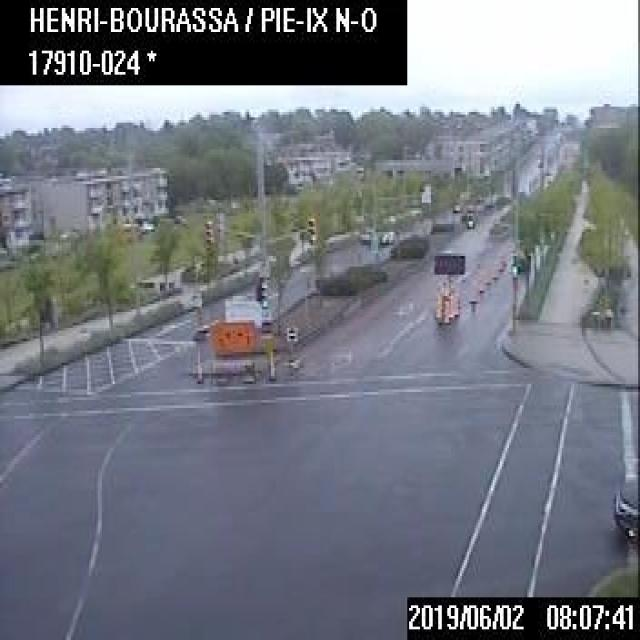construction: (195, 293, 276, 384), (432, 252, 464, 320), (468, 277, 476, 302), (441, 297, 448, 321), (434, 292, 441, 315), (477, 271, 483, 290), (490, 258, 496, 276), (452, 292, 457, 313), (448, 295, 452, 316), (484, 264, 488, 281)
vehicle: (607, 475, 638, 541)
